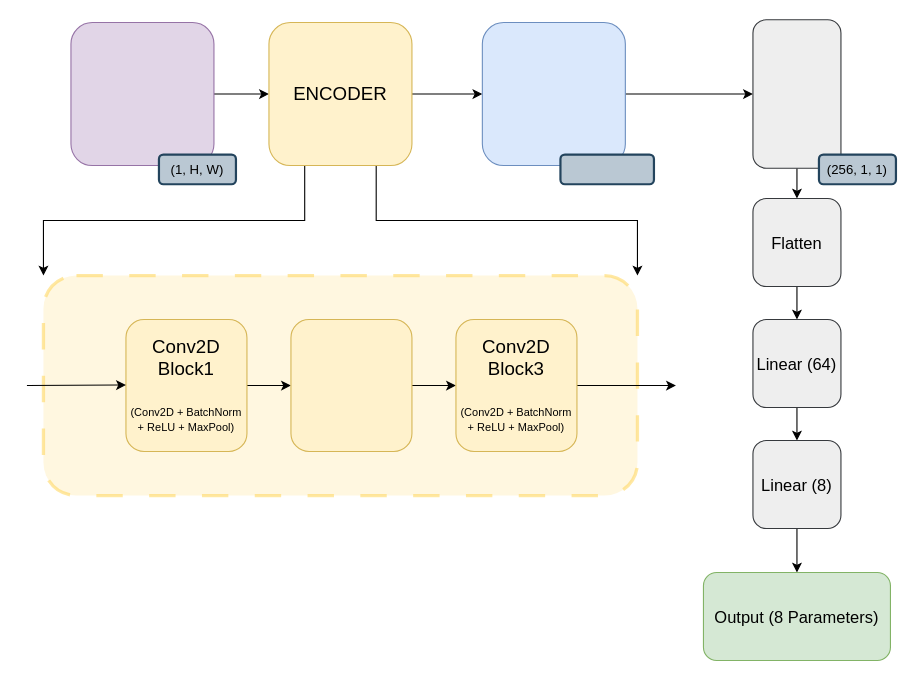
Image size: 916x680. Some labels were removed from this diagram. The centre of each missing label's shape, as x and y in pixels:
"(256, H/8, W/8)" goes at point (606, 169).
"BOTTLENECK (Conv2D + BatchNorm + ReLU)" goes at point (553, 93).
"Conv2D Block2 ( Conv2D + BatchNorm + ReLU + MaxPool)" goes at point (351, 385).
"Global Average Pooling" goes at point (796, 93).
"Target Audio (Spectrogram)" goes at point (142, 93).
